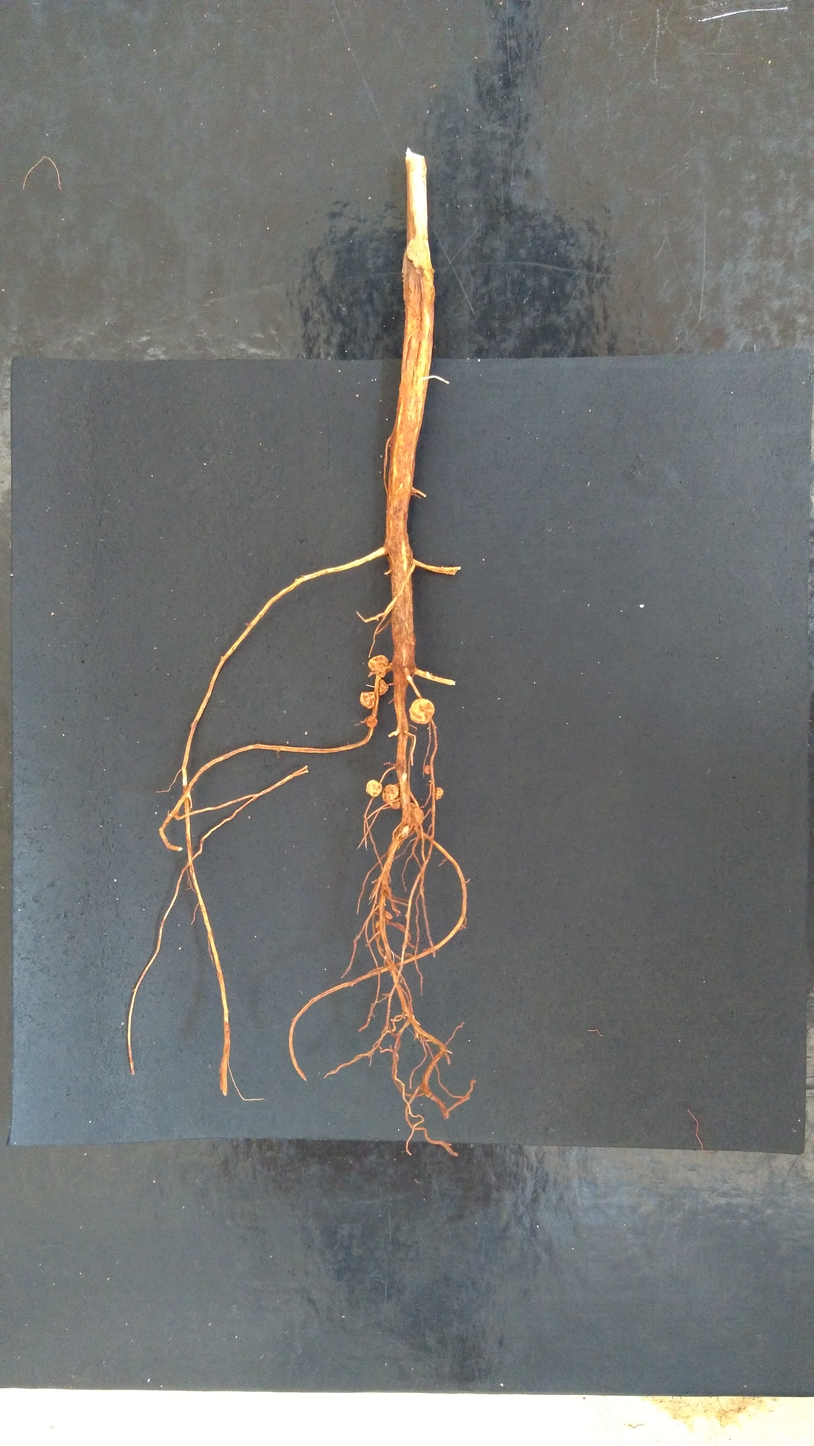nodule: (407, 696, 437, 725), (365, 654, 389, 680), (409, 801, 425, 828), (381, 783, 400, 805), (365, 778, 383, 798), (359, 691, 376, 709), (378, 679, 390, 697), (365, 715, 380, 728), (433, 785, 445, 801), (384, 910, 394, 920), (424, 763, 431, 776), (374, 920, 381, 929)
